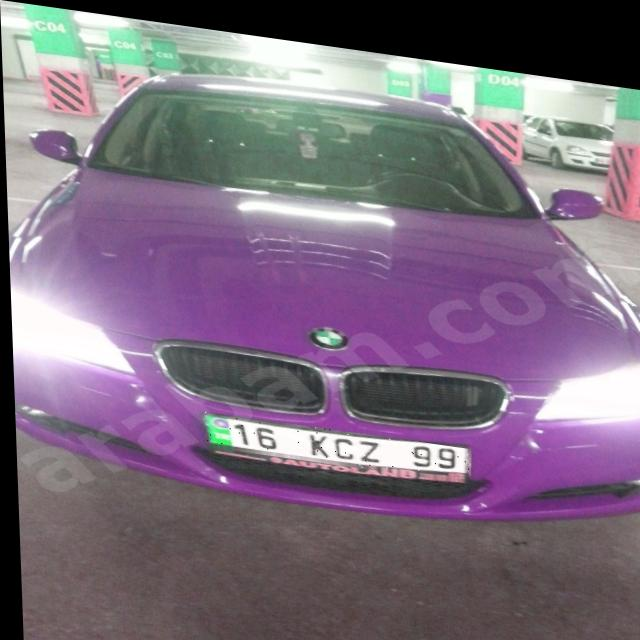license_plate: (201, 407, 466, 470)
